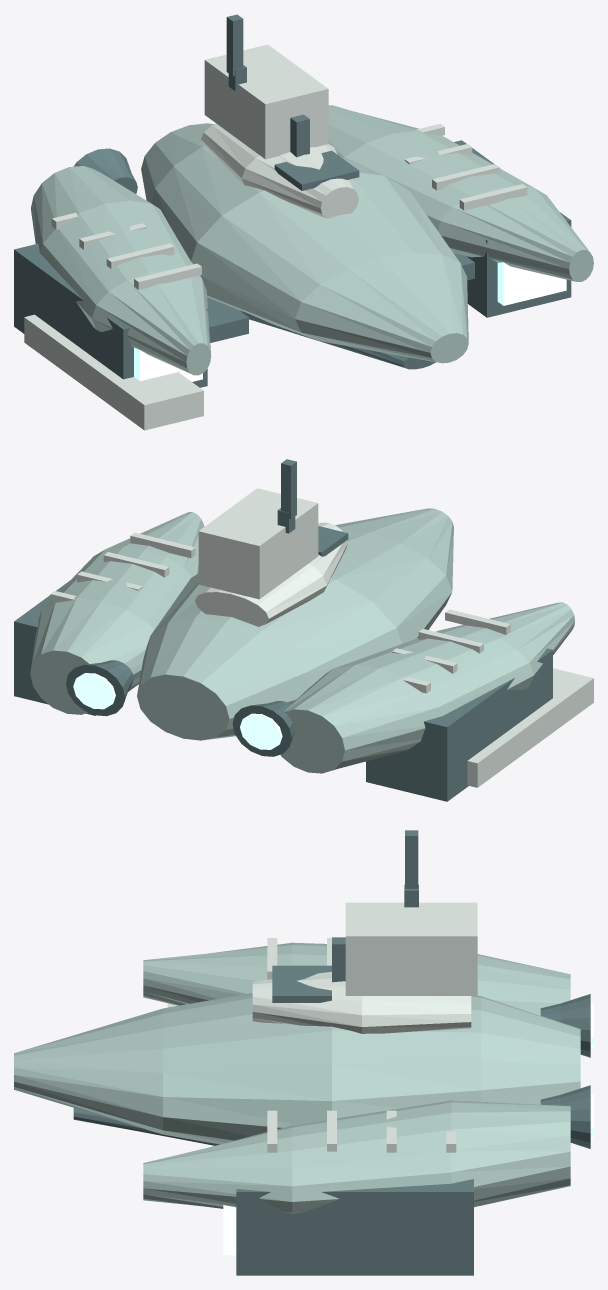
3 renders of one model, top to bottom at view 1: azimuth 30°, elevation 25°; view 2: azimuth 150°, elevation 25°; view 3: azimuth 270°, elevation 25°, orthographic. The views are drawn at different scales.
Size of the model in its own units: 17.64 by 10.27 by 17.57.
